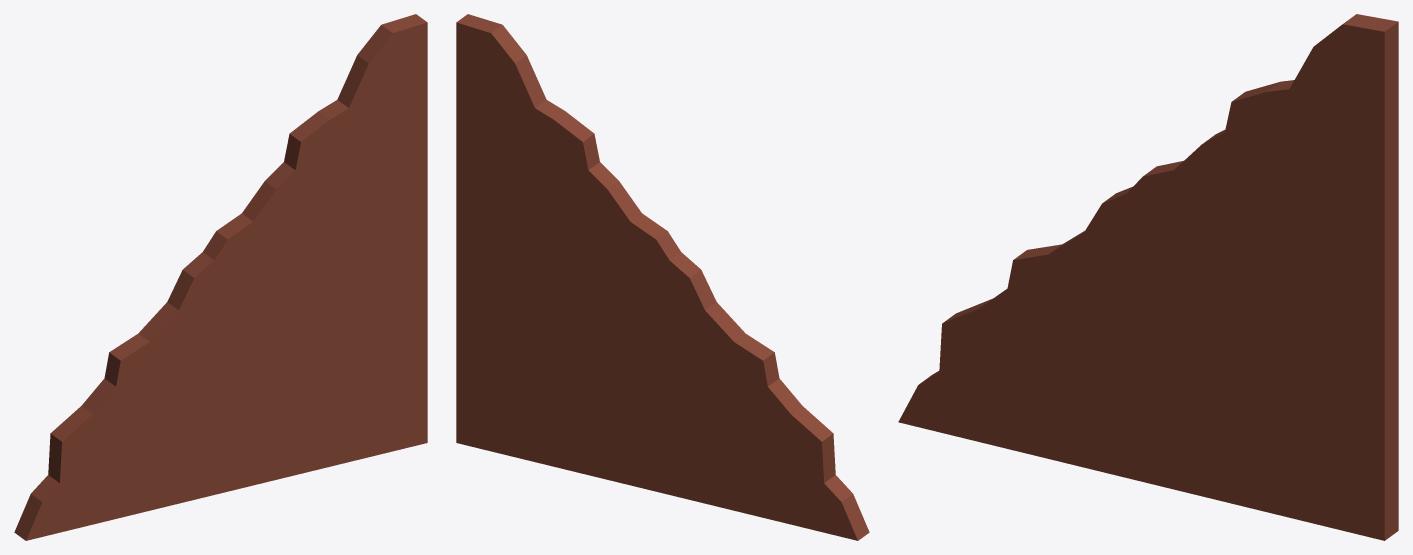
File: Tile09.glb
The picture shows the model from 3 angles, left to right: view 1: azimuth 30°, elevation 25°; view 2: azimuth 150°, elevation 25°; view 3: azimuth 330°, elevation 25°; orthographic projection. The views are drawn at different scales.
Parts seen in each view (by area): view 1: 09; view 2: 09; view 3: 09.
Part boxes in pixels (box(x1,y1,x2,y2)): 09: box(14, 14, 427, 540); 09: box(456, 14, 869, 540); 09: box(898, 14, 1398, 540).
Size of the model in its own units: 2 by 2 by 0.1.
Materials: 1 (1 with a texture image).
